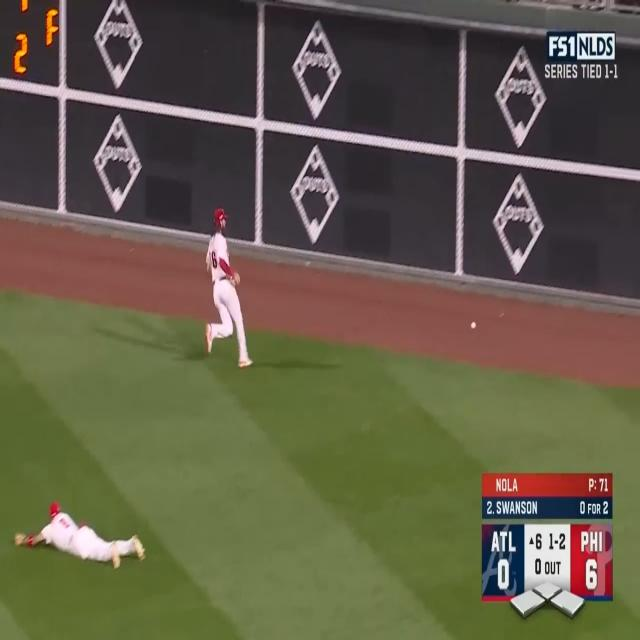baseball: (470, 319, 478, 332)
